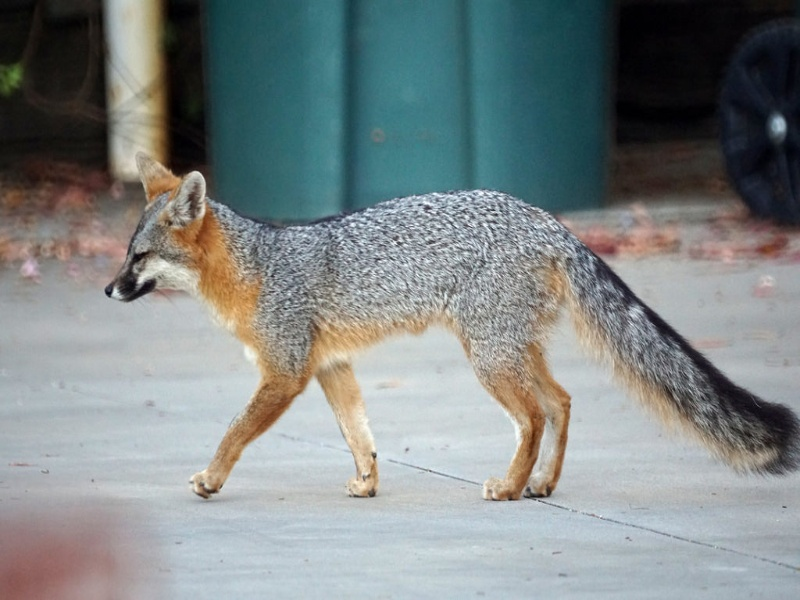fox: (98, 151, 791, 512)
